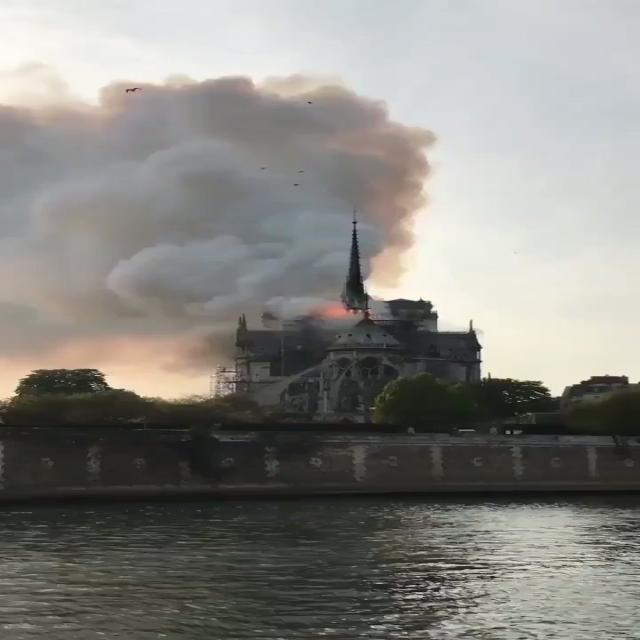Fire: (316, 300, 354, 321)
Smoke: (0, 67, 441, 376)
